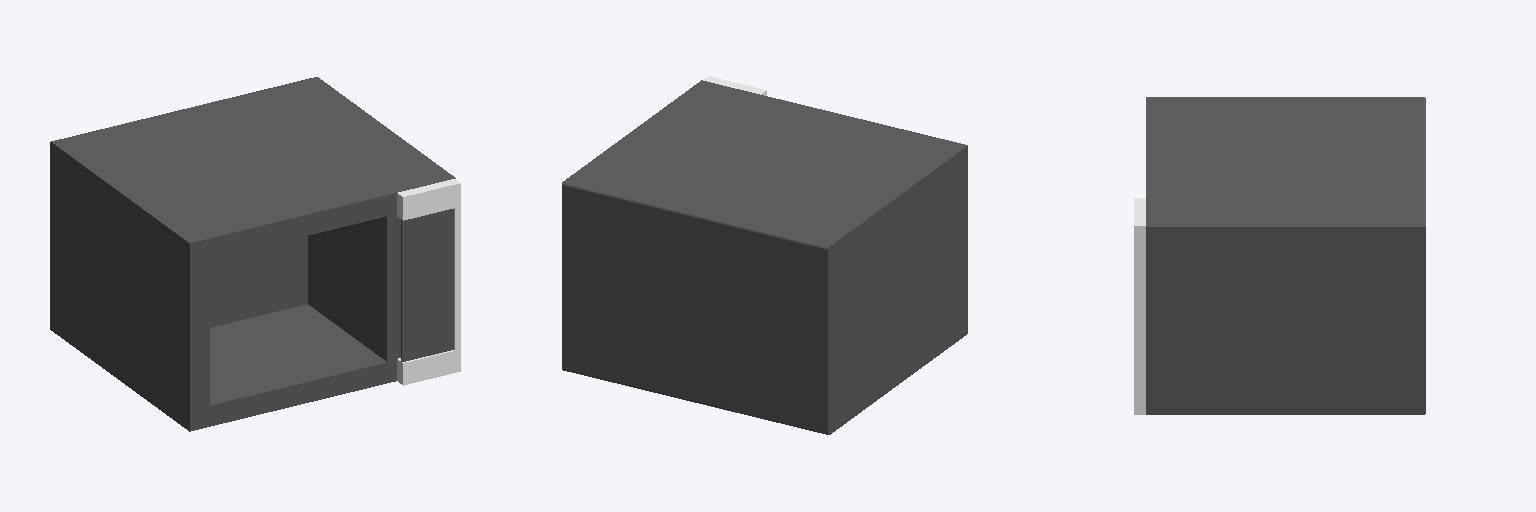
File: body.obj
The picture shows the model from 3 angles: view 1: azimuth 30°, elevation 25°; view 2: azimuth 150°, elevation 25°; view 3: azimuth 270°, elevation 25°; orthographic projection.
Bounding box in the file's own units: 1.32 × 0.8896 × 1.25.